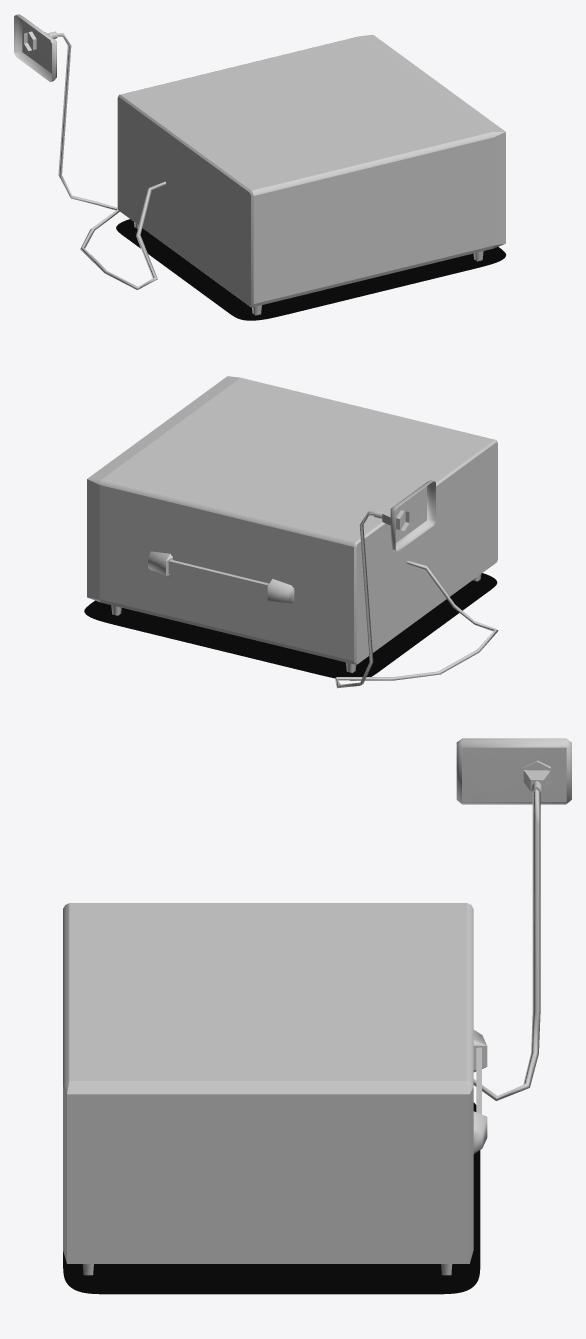
File: transceiver_LOD.fbx
3 views of the same model, one above another, from view 1: azimuth 30°, elevation 25°; view 2: azimuth 150°, elevation 25°; view 3: azimuth 270°, elevation 25° (orthographic). The views are drawn at different scales.
Parts seen in each view (by area): view 1: transceiver_LOD, transceiver_shadow, net_cable; view 2: transceiver_LOD, transceiver_shadow, net_cable; view 3: transceiver_LOD, transceiver_shadow, net_cable.
Boxes of the visible parts, <box> form: transceiver_LOD: <box>117,34,505,315</box>; transceiver_shadow: <box>116,219,505,320</box>; net_cable: <box>14,14,166,289</box>; transceiver_LOD: <box>87,376,497,672</box>; transceiver_shadow: <box>84,573,497,680</box>; net_cable: <box>335,480,498,688</box>; transceiver_LOD: <box>63,903,487,1275</box>; transceiver_shadow: <box>63,1102,480,1294</box>; net_cable: <box>456,738,571,1100</box>.
Size of the model in its own units: 74.06 by 38.68 by 63.09.
